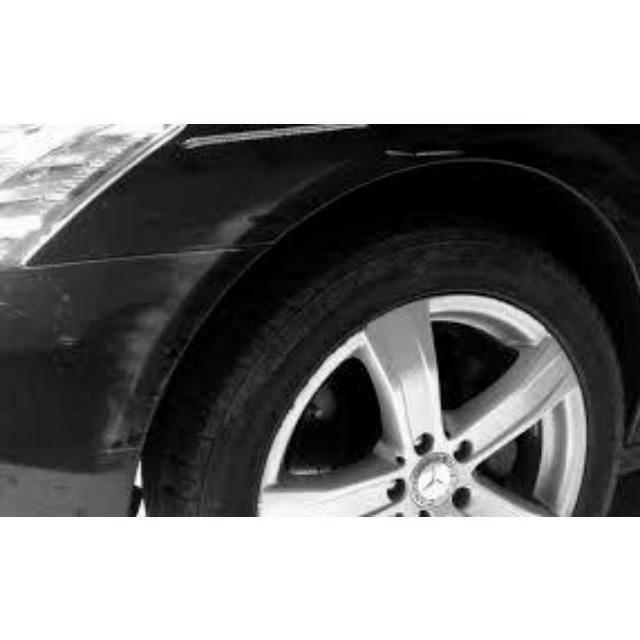front-bumper-dent: (1, 168, 316, 479)
